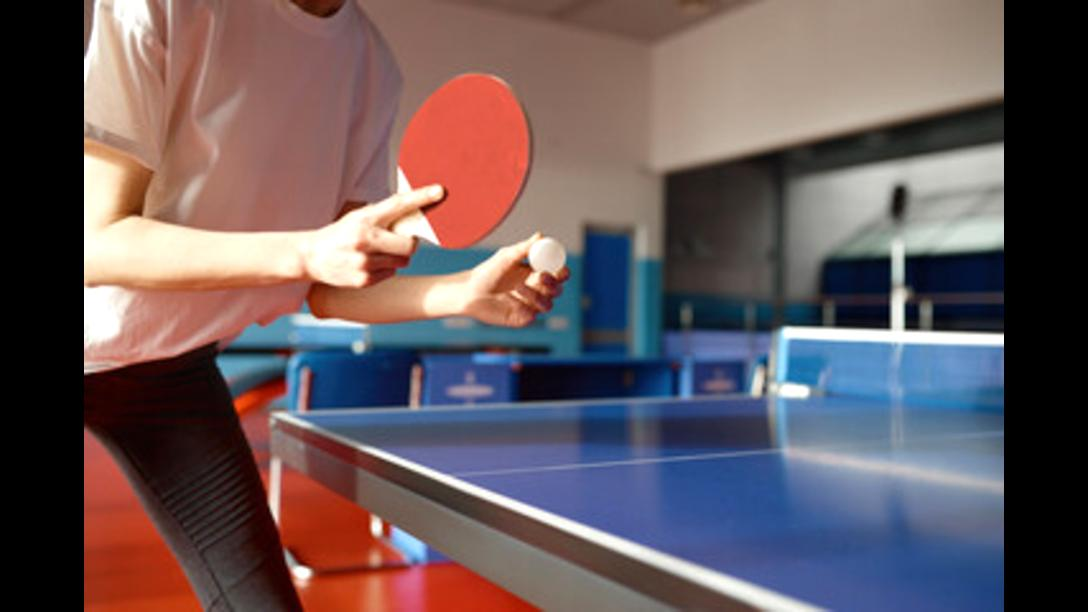Table-Tennis-Ball: (531, 238, 565, 270)
